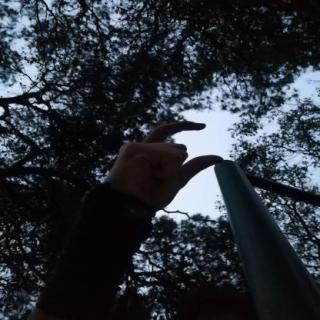DELL: (95, 117, 229, 216)
